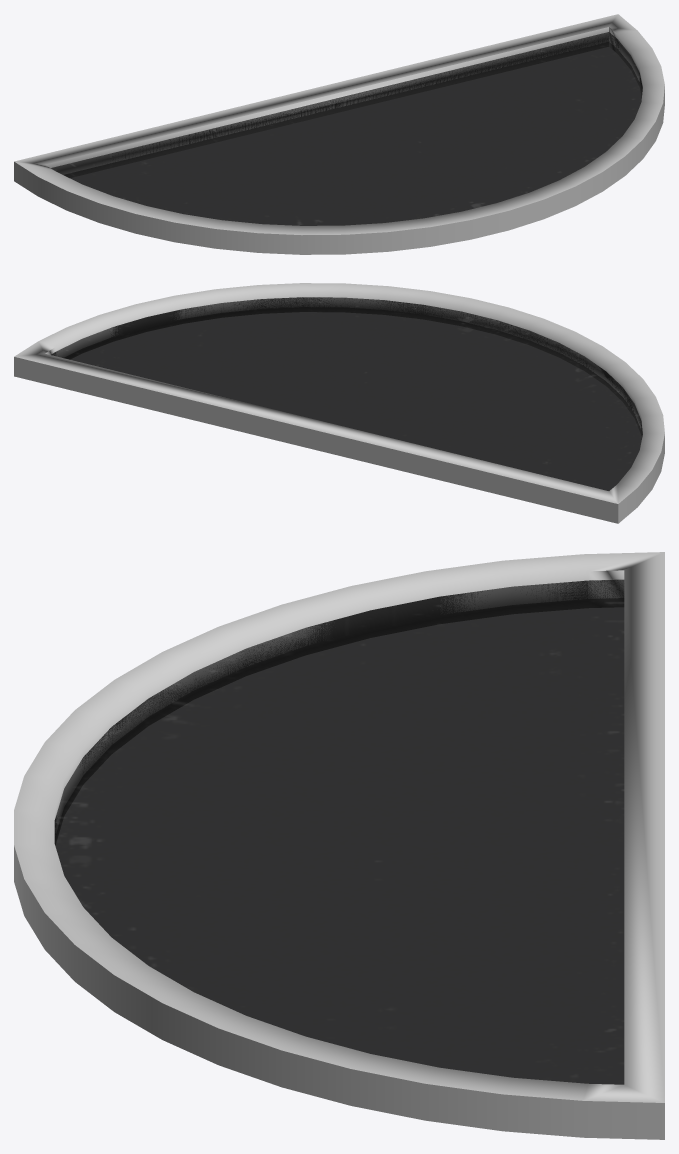
Rendered from glass_2x2_halfcircle.fbx.
The picture shows the model from 3 angles, top to bottom: view 1: azimuth 30°, elevation 25°; view 2: azimuth 150°, elevation 25°; view 3: azimuth 270°, elevation 25°; orthographic projection. The views are drawn at different scales.
Parts seen in each view (by area): view 1: glass_2x2_halfcircle; view 2: glass_2x2_halfcircle; view 3: glass_2x2_halfcircle.
Boxes of the visible parts, x1=… form: glass_2x2_halfcircle: x1=14, y1=14, x2=664, y2=254; glass_2x2_halfcircle: x1=14, y1=283, x2=664, y2=523; glass_2x2_halfcircle: x1=14, y1=552, x2=664, y2=1139.
Bounding box in the file's own units: 80.09 × 2.5 × 39.99.
